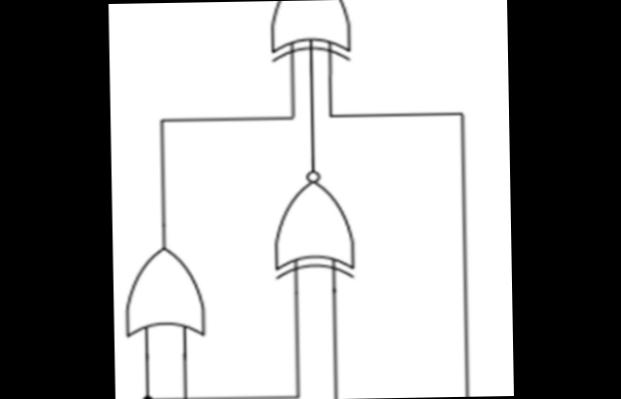or: (119, 239, 210, 342)
xnor: (267, 163, 360, 284)
